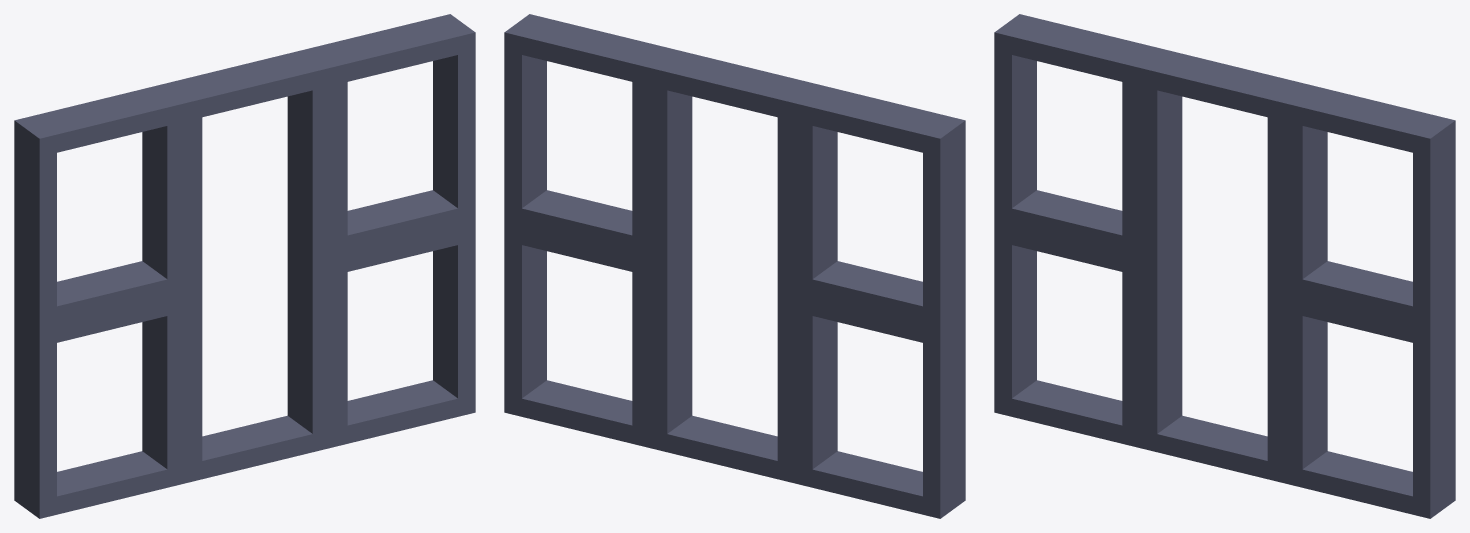
Rendered from WindowFrameNoGlass.fbx.
3 renders of one model, left to right at view 1: azimuth 30°, elevation 25°; view 2: azimuth 150°, elevation 25°; view 3: azimuth 330°, elevation 25°, orthographic.
Parts seen in each view (by area): view 1: Cube.011; view 2: Cube.011; view 3: Cube.011.
Boxes of the visible parts, <box> form: Cube.011: <box>14,14,475,518</box>; Cube.011: <box>504,14,965,518</box>; Cube.011: <box>994,14,1455,518</box>.
Bounding box in the file's own units: 300 × 250 × 30.
